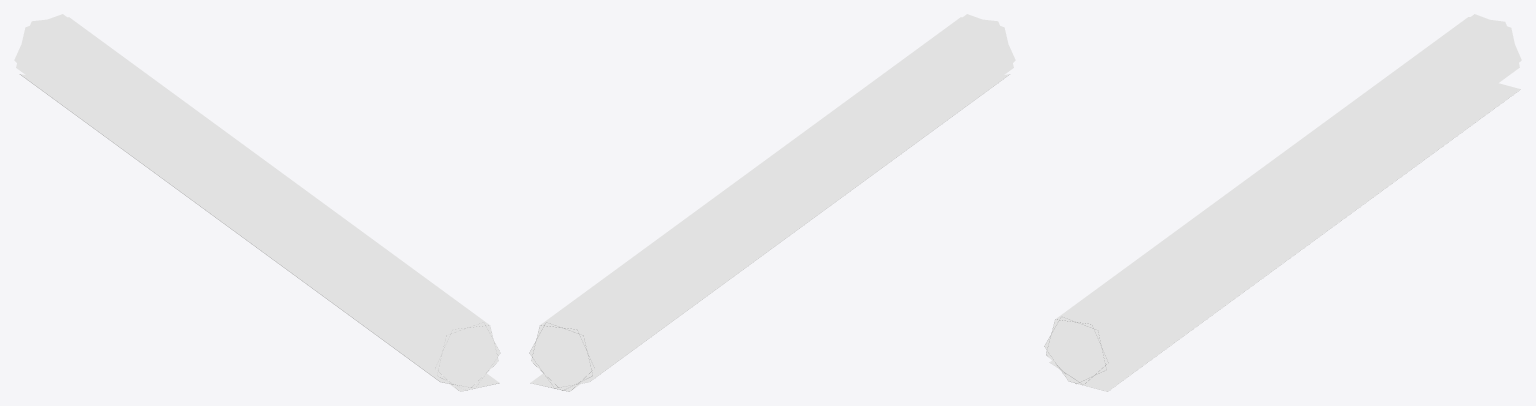
The model's file is Level 130.fbx.
3 views of the same model, side by side, from view 1: azimuth 30°, elevation 25°; view 2: azimuth 150°, elevation 25°; view 3: azimuth 330°, elevation 25° (orthographic).
Parts seen in each view (by area): view 1: Blend; view 2: Blend; view 3: Blend.
Boxes of the visible parts, bbox=[...] form: Blend: bbox=[14, 14, 500, 391]; Blend: bbox=[529, 14, 1015, 391]; Blend: bbox=[1044, 14, 1521, 391].
Size of what is drawn, in the model's own units: 0.9982 by 0.9497 by 11.08.
